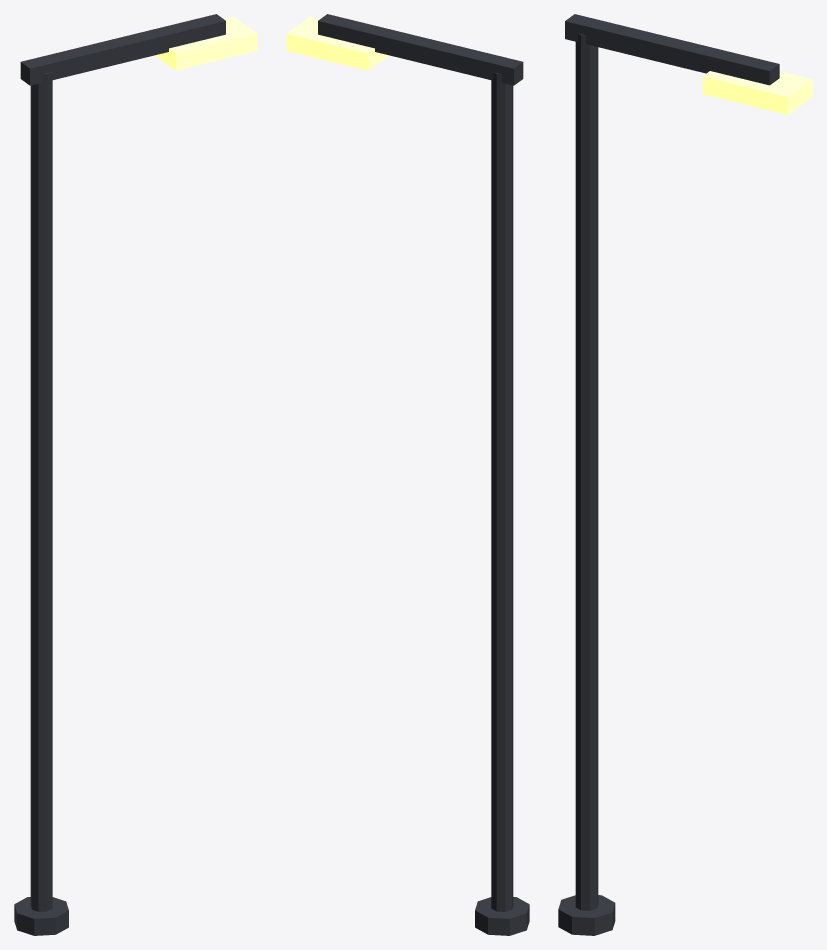
Rendered from street_lamp.glb.
The picture shows the model from 3 angles, left to right: view 1: azimuth 30°, elevation 25°; view 2: azimuth 150°, elevation 25°; view 3: azimuth 330°, elevation 25°; orthographic projection. The views are drawn at different scales.
Visible parts, largest first — view 1: street_lamp; view 2: street_lamp; view 3: street_lamp.
Boxes of the visible parts, x1,y1,x2,y2 form: street_lamp: (14, 14, 257, 935); street_lamp: (286, 14, 529, 935); street_lamp: (558, 14, 812, 935).
Bounding box in the file's own units: 1.4 × 5.05 × 0.3.
